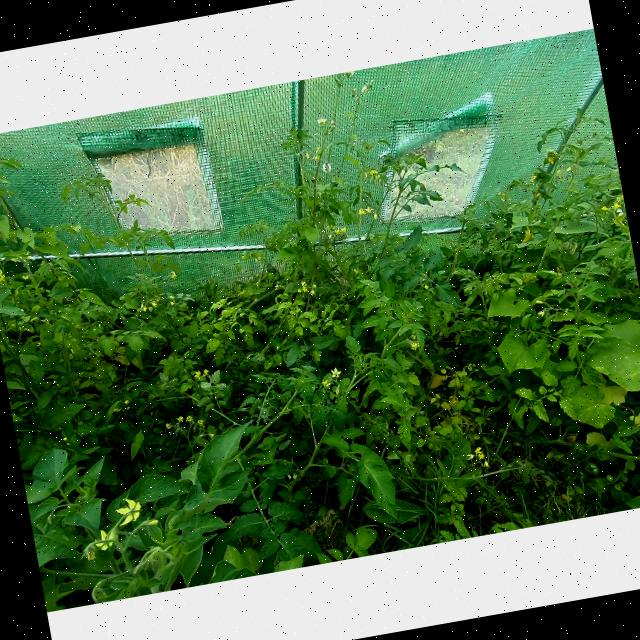Flowers: (112, 496, 144, 524), (92, 528, 115, 550), (541, 148, 559, 166), (83, 545, 97, 560), (368, 168, 381, 182), (474, 448, 485, 460), (316, 117, 328, 128), (332, 226, 347, 234), (0, 266, 6, 283), (330, 367, 340, 377), (167, 295, 176, 306), (498, 195, 512, 202), (410, 342, 420, 351), (534, 298, 546, 305), (327, 224, 337, 232), (612, 202, 623, 209), (202, 368, 210, 377), (482, 459, 490, 468), (528, 174, 537, 182), (320, 379, 330, 386), (466, 454, 476, 461), (112, 406, 122, 413), (496, 189, 506, 196), (297, 286, 308, 292), (164, 422, 172, 430), (358, 207, 366, 215), (352, 268, 360, 276), (600, 204, 608, 212), (365, 205, 374, 212), (274, 284, 284, 290), (538, 309, 546, 316), (170, 270, 177, 278), (312, 155, 320, 162), (554, 168, 562, 175), (176, 416, 184, 422), (140, 302, 146, 310), (150, 298, 156, 306), (564, 166, 572, 172), (185, 415, 192, 421), (194, 369, 200, 376), (422, 283, 429, 289), (300, 280, 307, 286), (304, 152, 310, 159), (373, 212, 378, 220), (327, 232, 332, 240), (197, 420, 203, 426), (124, 399, 130, 405), (312, 281, 317, 288), (310, 289, 314, 295)
